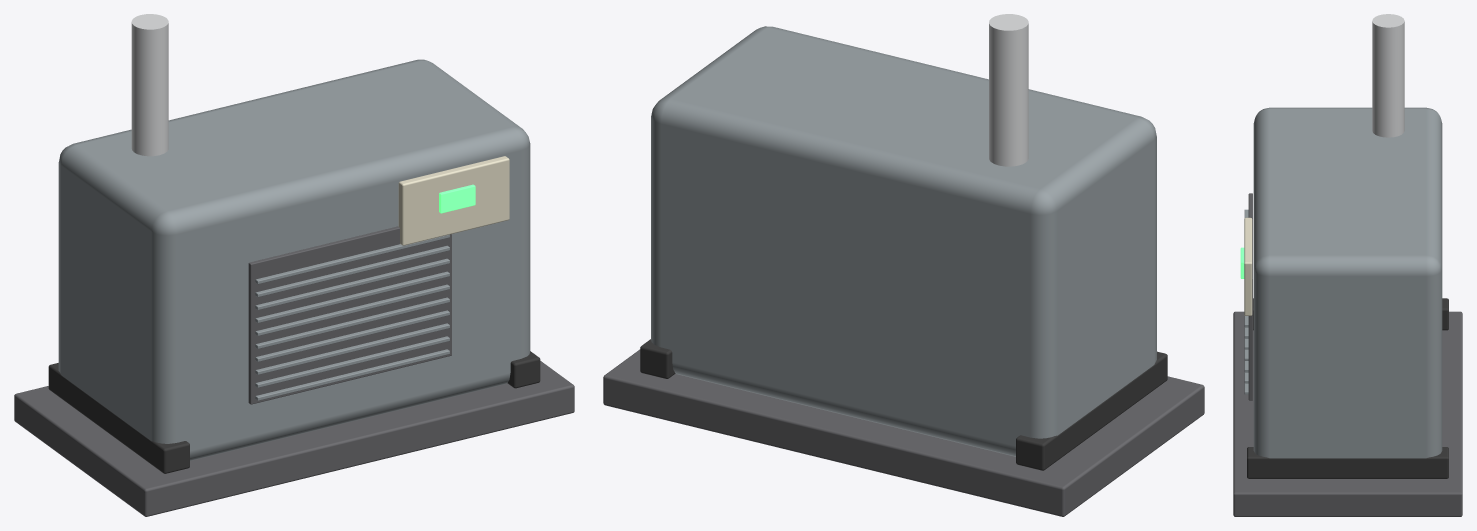
File: prison-complex-builder-standby-generator-0481428c__25691.glb
The picture shows the model from 3 angles, left to right: view 1: azimuth 30°, elevation 25°; view 2: azimuth 150°, elevation 25°; view 3: azimuth 270°, elevation 25°; orthographic projection. The views are drawn at different scales.
Parts seen in each view (by area): view 1: standby-generator; view 2: standby-generator; view 3: standby-generator.
Boxes of the visible parts, x1,y1,x2,y2 form: standby-generator: [14, 14, 574, 516]; standby-generator: [603, 14, 1204, 516]; standby-generator: [1233, 14, 1462, 516].
Bounding box in the file's own units: 1.6 × 1.45 × 0.8499.
